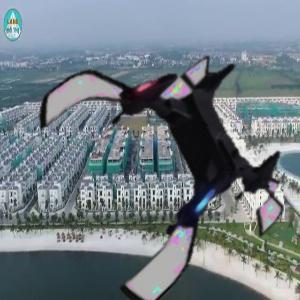drone: (28, 27, 294, 293)
